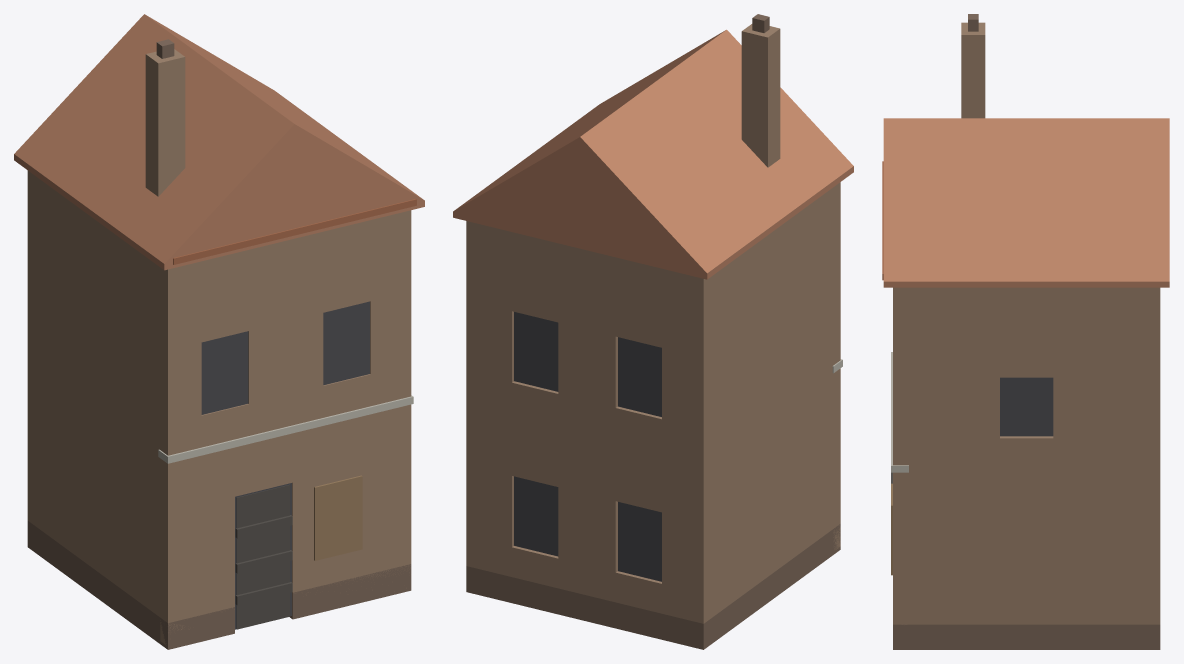
File: env_house_2storey_d.glb
The picture shows the model from 3 angles, left to right: view 1: azimuth 30°, elevation 25°; view 2: azimuth 150°, elevation 25°; view 3: azimuth 270°, elevation 25°; orthographic projection. The views are drawn at different scales.
Parts seen in each view (by area): view 1: env_house_2storey_d; view 2: env_house_2storey_d; view 3: env_house_2storey_d.
Boxes of the visible parts, bbox=[...] form: env_house_2storey_d: bbox=[14, 14, 424, 649]; env_house_2storey_d: bbox=[453, 14, 853, 649]; env_house_2storey_d: bbox=[882, 14, 1169, 649].
Bounding box in the file's own units: 4.28 × 8.9 × 4.3.
